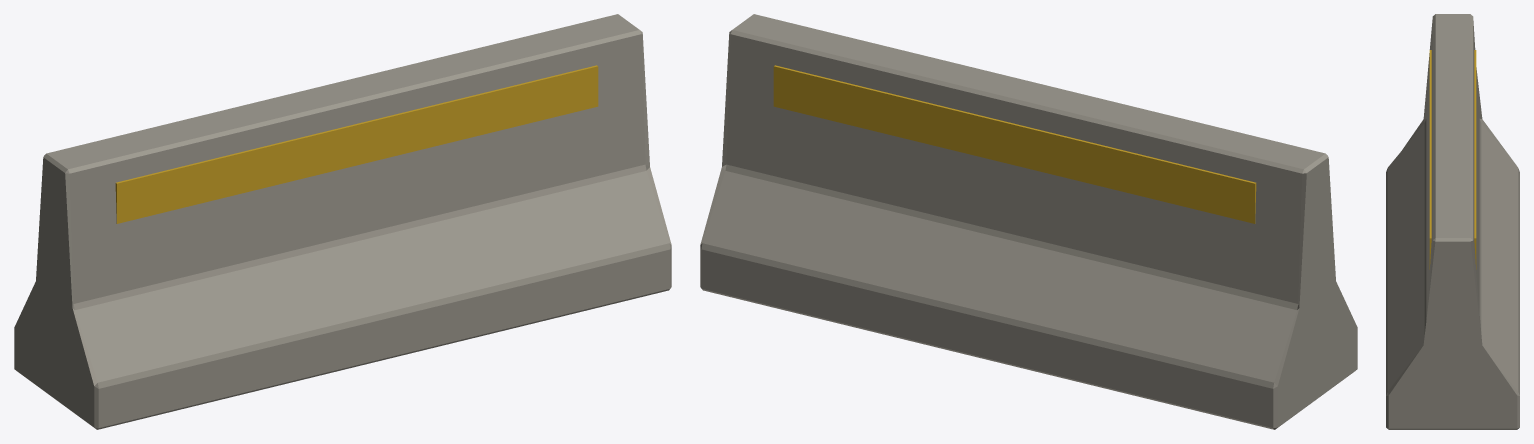
File: barrier.glb
3 views of the same model, side by side, from view 1: azimuth 30°, elevation 25°; view 2: azimuth 150°, elevation 25°; view 3: azimuth 270°, elevation 25° (orthographic). The views are drawn at different scales.
Visible parts, largest first — view 1: barrier; view 2: barrier; view 3: barrier.
Boxes of the visible parts, left/top/right/bottom form: barrier: left=14, top=14, right=671, bottom=429; barrier: left=700, top=14, right=1357, bottom=429; barrier: left=1386, top=14, right=1519, bottom=429.
Bounding box in the file's own units: 2.4 × 0.95 × 0.6.
